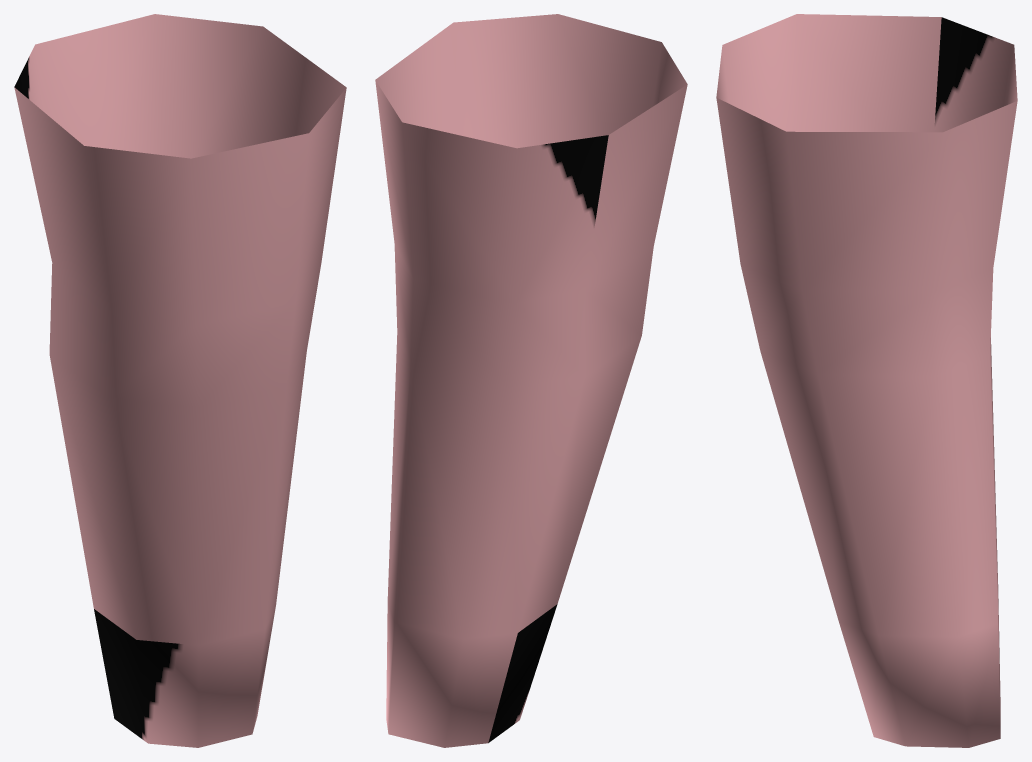
File: leg_R.obj
3 renders of one model, left to right at view 1: azimuth 30°, elevation 25°; view 2: azimuth 150°, elevation 25°; view 3: azimuth 270°, elevation 25°, orthographic. The views are drawn at different scales.
Visible parts, largest first — view 1: leg_R; view 2: leg_R; view 3: leg_R.
Part boxes in pixels (x1=…): leg_R: x1=14, y1=14, x2=346, y2=747; leg_R: x1=375, y1=14, x2=687, y2=747; leg_R: x1=716, y1=14, x2=1017, y2=747.
Bounding box in the file's own units: 0.1989 × 0.4955 × 0.2153.
Materials: 1 (1 with a texture image).
